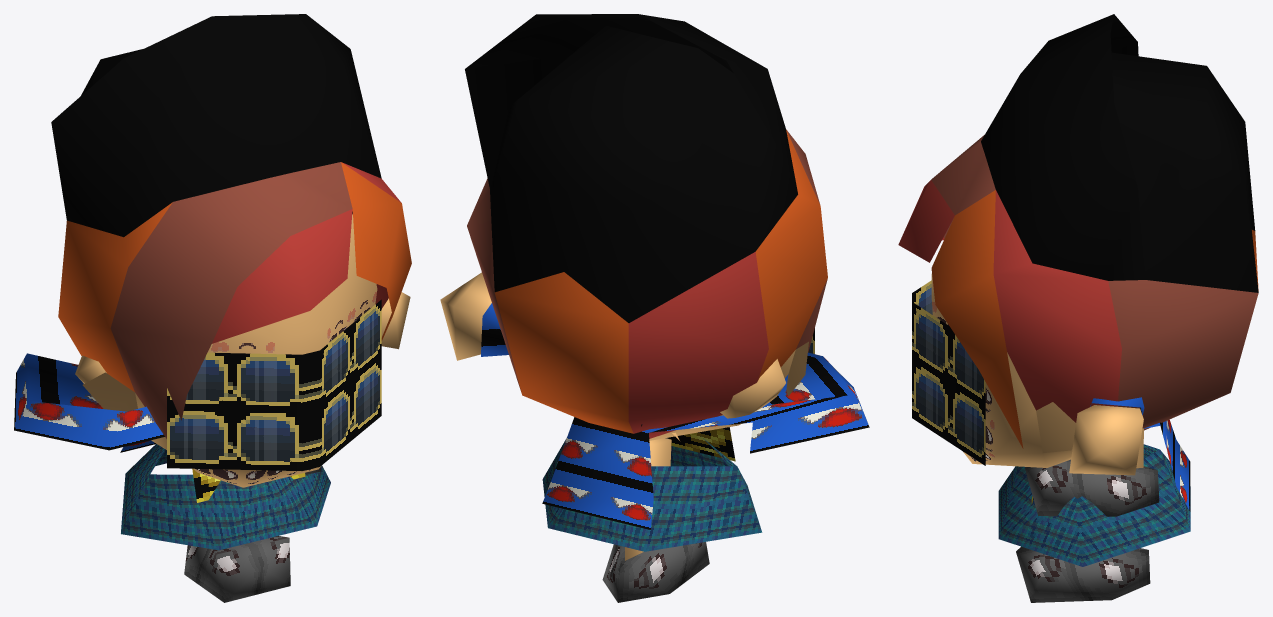
3 renders of one model, left to right at view 1: azimuth 30°, elevation 25°; view 2: azimuth 150°, elevation 25°; view 3: azimuth 270°, elevation 25°, orthographic. The views are drawn at different scales.
Visible parts, largest first — view 1: pmd04_04_03; view 2: pmd04_04_03; view 3: pmd04_04_03.
Boxes of the visible parts, box(x1,y1,x2,y2) form: pmd04_04_03: box(14, 14, 411, 602); pmd04_04_03: box(440, 14, 869, 602); pmd04_04_03: box(898, 14, 1258, 602).
Size of the model in its own units: 1.23 by 1.6 by 0.949.
9 materials, 9 textured.
